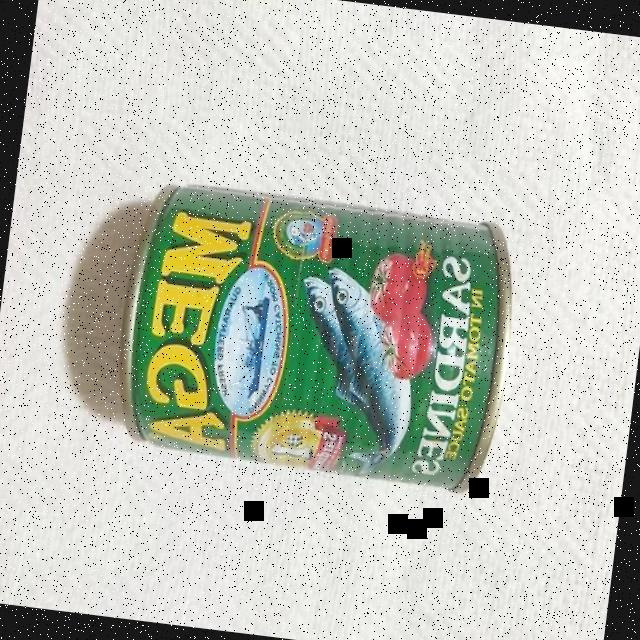can: (107, 180, 524, 498)
